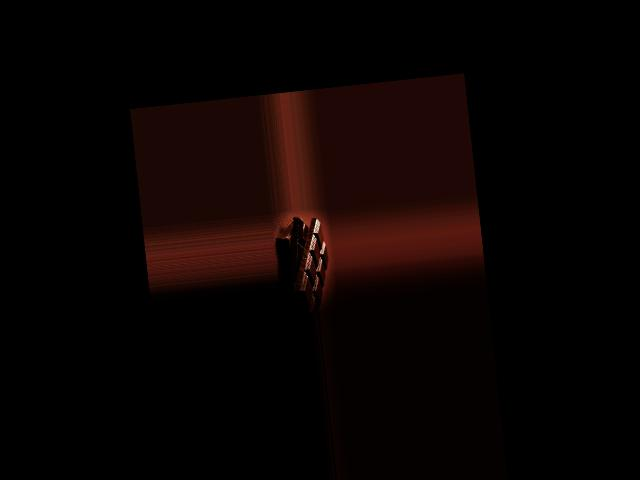chocolate: (280, 214, 332, 312)
